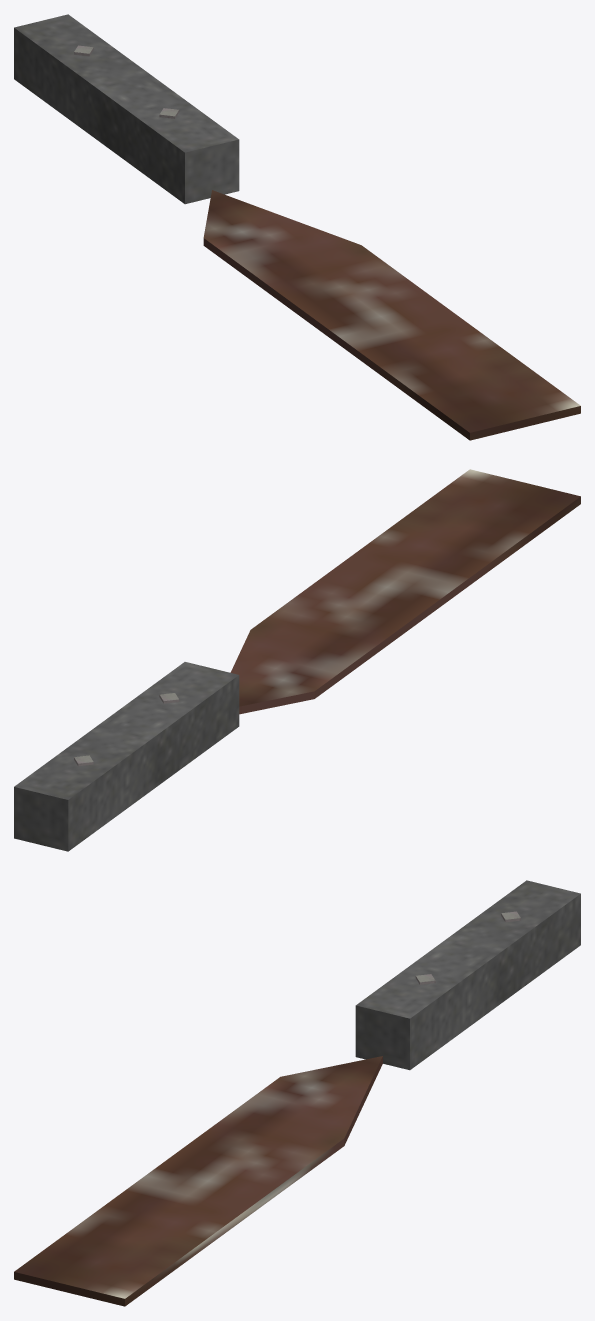
The model's file is chef_knife.fbx.
3 views of the same model, one above another, from view 1: azimuth 30°, elevation 25°; view 2: azimuth 150°, elevation 25°; view 3: azimuth 330°, elevation 25° (orthographic).
Visible parts, largest first — view 1: chef_knife; view 2: chef_knife; view 3: chef_knife.
Boxes of the visible parts, bbox=[...] form: chef_knife: bbox=[14, 14, 580, 440]; chef_knife: bbox=[14, 469, 580, 851]; chef_knife: bbox=[14, 880, 580, 1306].
Bounding box in the file's own units: 0.045 × 0.022 × 0.34.
